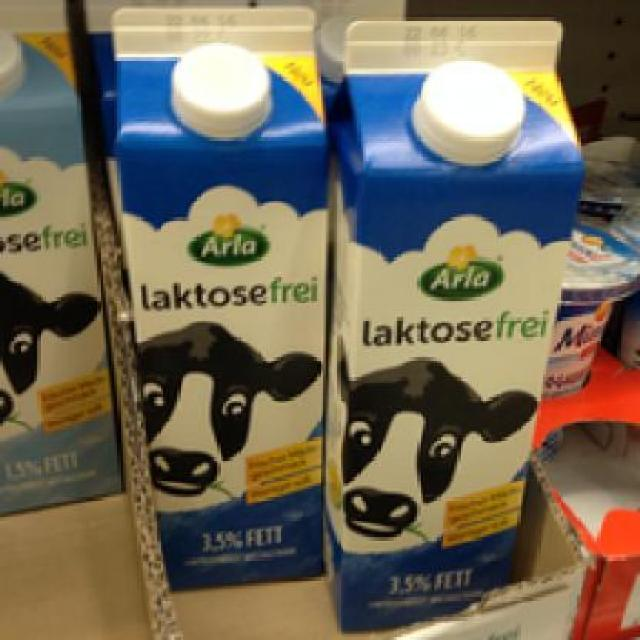Milk: (334, 14, 580, 637), (106, 6, 326, 588)
